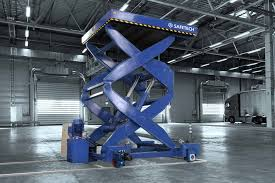Scissor Lift: (66, 8, 202, 169)
